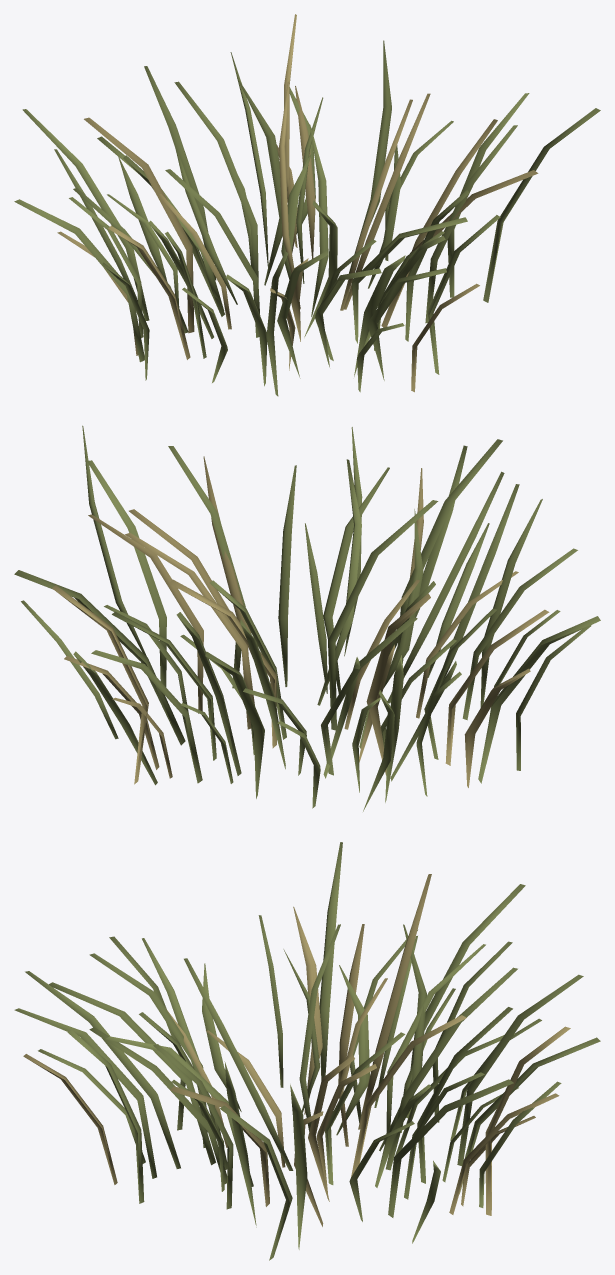
File: Herbes_Etale_LOD0.fbx
3 renders of one model, top to bottom at view 1: azimuth 30°, elevation 25°; view 2: azimuth 150°, elevation 25°; view 3: azimuth 270°, elevation 25°, orthographic. The views are drawn at different scales.
Visible parts, largest first — view 1: Herbes_Etale; view 2: Herbes_Etale; view 3: Herbes_Etale.
Part boxes in pixels (bbox=[...]): Herbes_Etale: bbox=[14, 14, 600, 396]; Herbes_Etale: bbox=[14, 425, 600, 811]; Herbes_Etale: bbox=[14, 842, 600, 1260].
Size of the model in its own units: 93.53 by 35.38 by 85.38.
